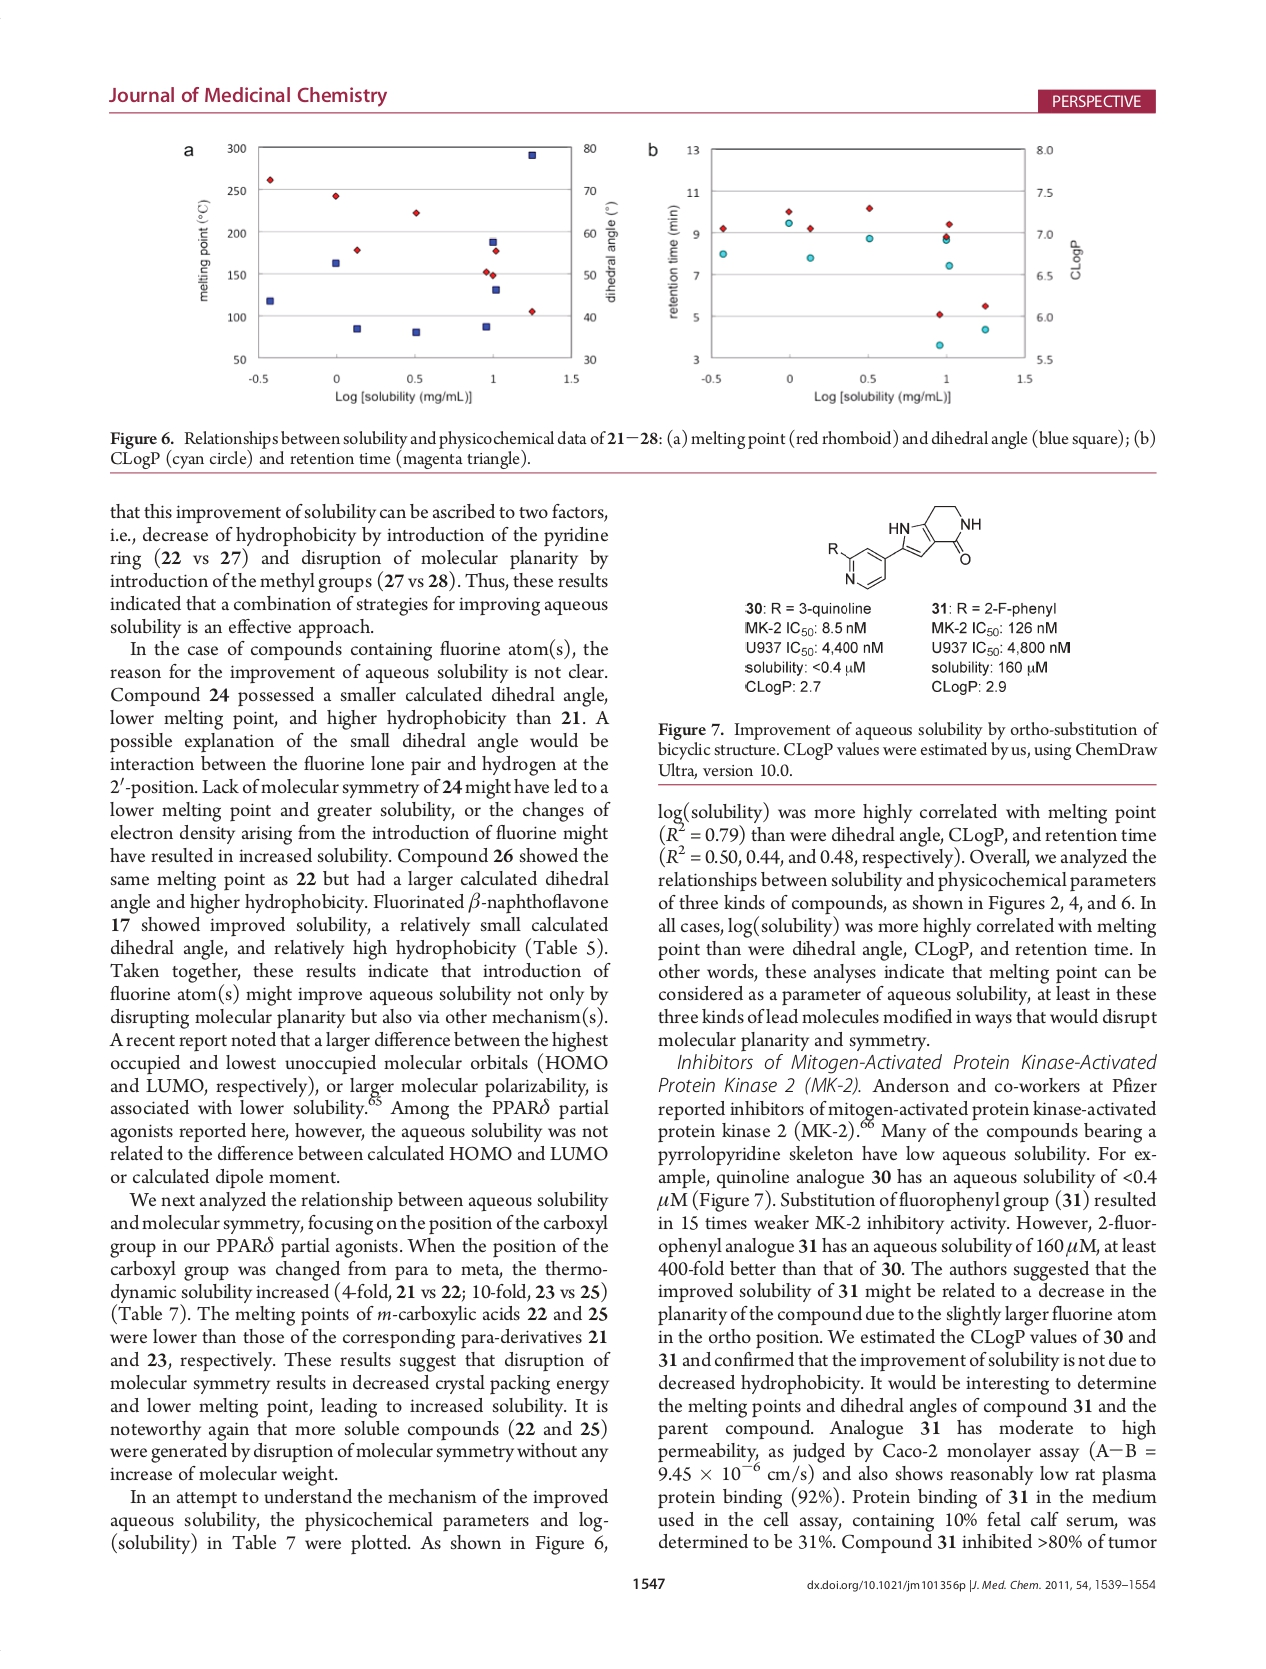exist_molecular: (822, 497, 985, 590)
